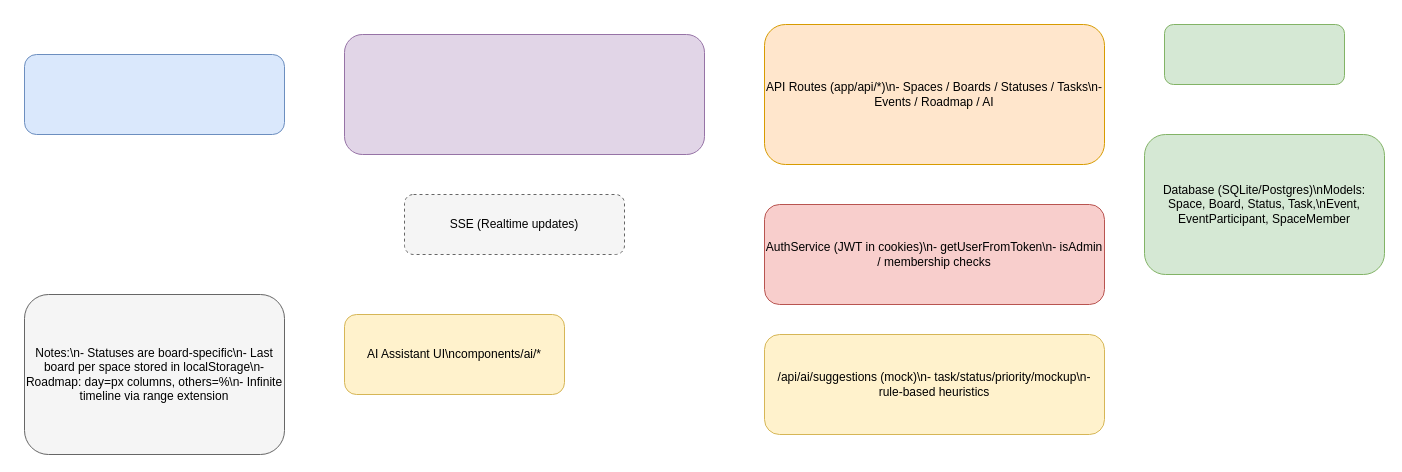
Image size: 1402x472. Some labels were removed from this diagram. The shapes that lost their labels are listed below. From the top down, each one's box as (x1, y1, x2, y2) in pixels, then its label:
(1164, 24, 1344, 84): Prisma ORM
(24, 54, 284, 134): Client (React + shadcn/ui + Tailwind)
(344, 34, 704, 154): Next.js App Router (app/*)\nTabs: Overview, Tasks, Board, Calendar, Roadmap, AI
